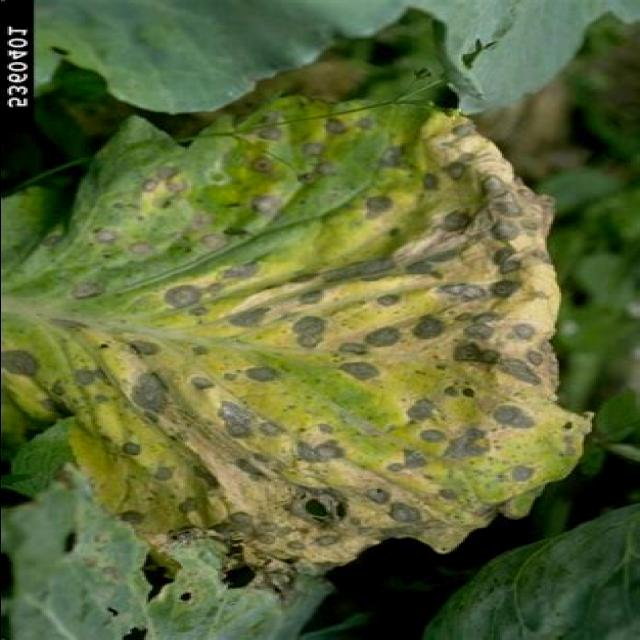Powdery_Mildew: (100, 178, 528, 484)
